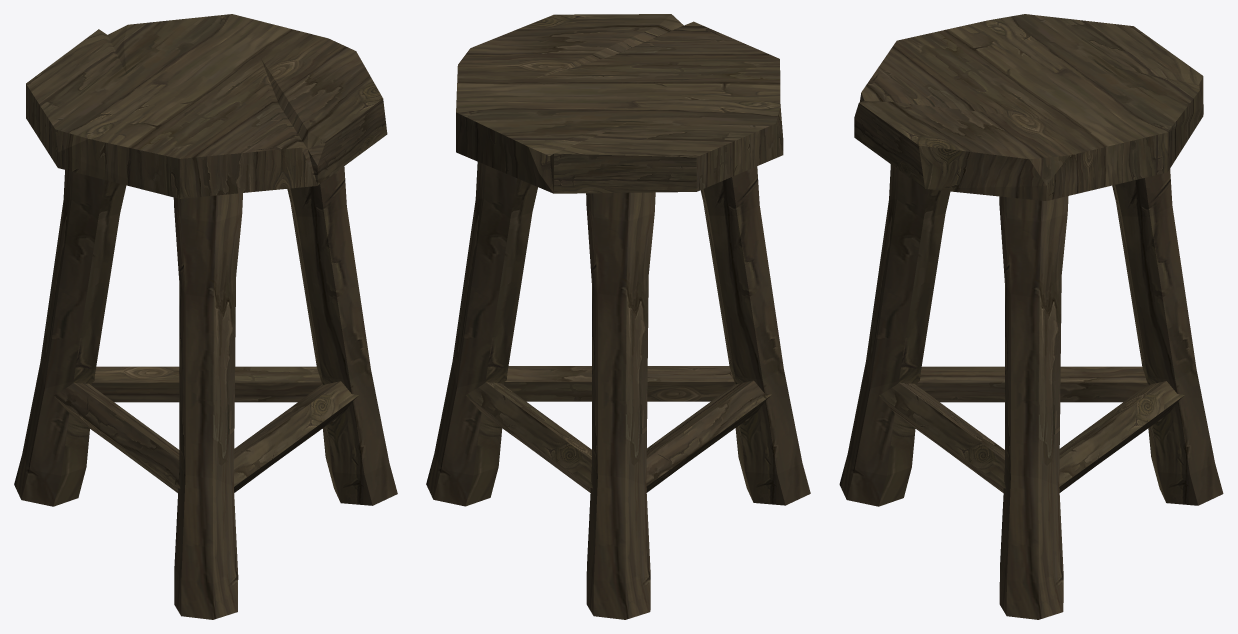
Rendered from SM_Prop_Stool_02.fbx.
3 views of the same model, side by side, from view 1: azimuth 30°, elevation 25°; view 2: azimuth 150°, elevation 25°; view 3: azimuth 270°, elevation 25° (orthographic).
Visible parts, largest first — view 1: SM_Prop_Stool_02; view 2: SM_Prop_Stool_02; view 3: SM_Prop_Stool_02.
Part boxes in pixels (box(x1,y1,x2,y2)): SM_Prop_Stool_02: box(14, 14, 397, 619); SM_Prop_Stool_02: box(426, 14, 810, 619); SM_Prop_Stool_02: box(839, 14, 1223, 619).
Size of the model in its own units: 54.88 by 67.82 by 52.91.
